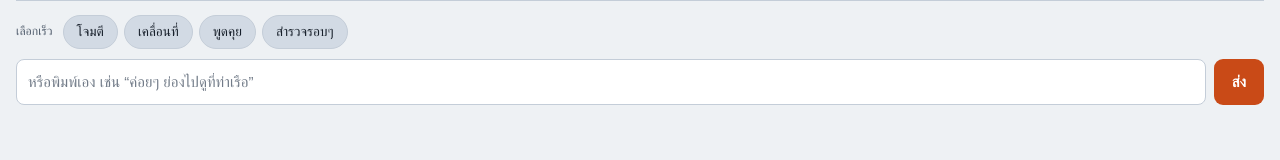
ActionInput › shows an error and keeps input enabled when the submit is rejected
Step 1. Click the button "โจมตี" → (90, 32), box [63, 15, 118, 49]
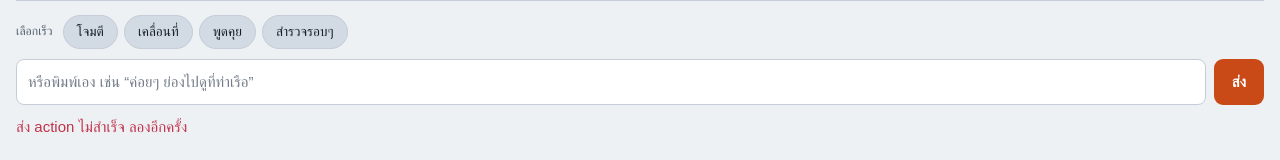
Expected: the button "เคลื่อนที่" is enabled, [124, 15, 193, 49]
Expected: the message shows "ส่ง action ไม่สำเร็จ", [16, 118, 187, 135]
